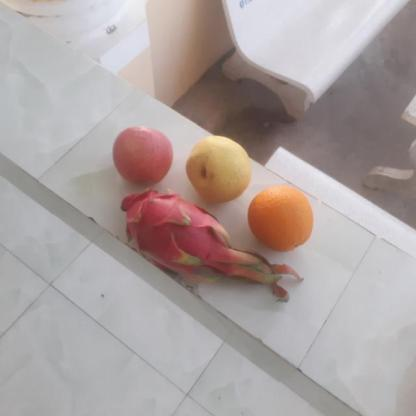apple: (108, 124, 175, 185)
orange: (245, 185, 312, 251)
pear: (183, 135, 254, 202)
pitaya: (119, 190, 225, 270)
